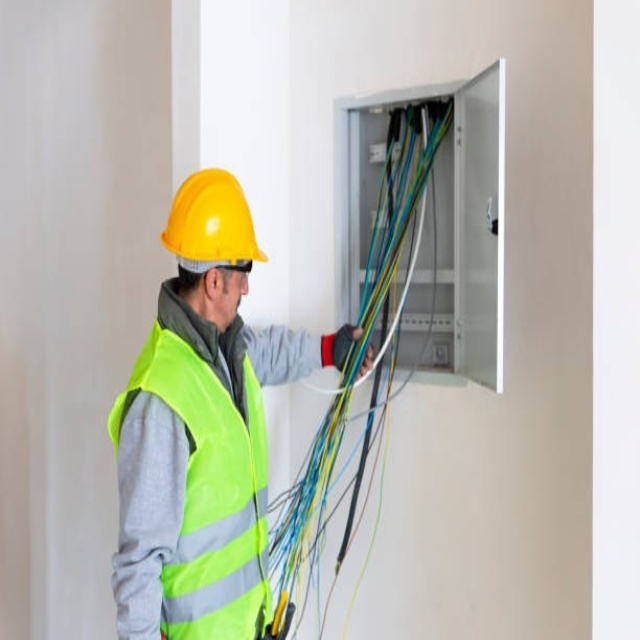Gafas: (207, 260, 254, 282)
Guantes: (325, 323, 365, 371)
